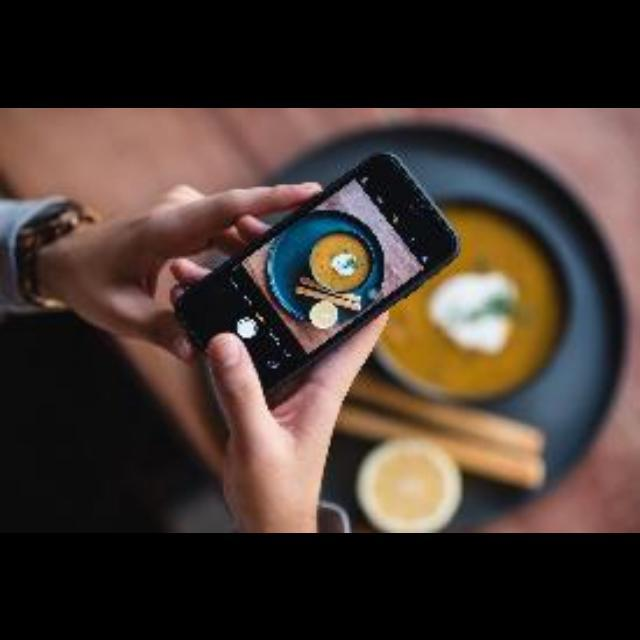Phone: (145, 134, 475, 402)
